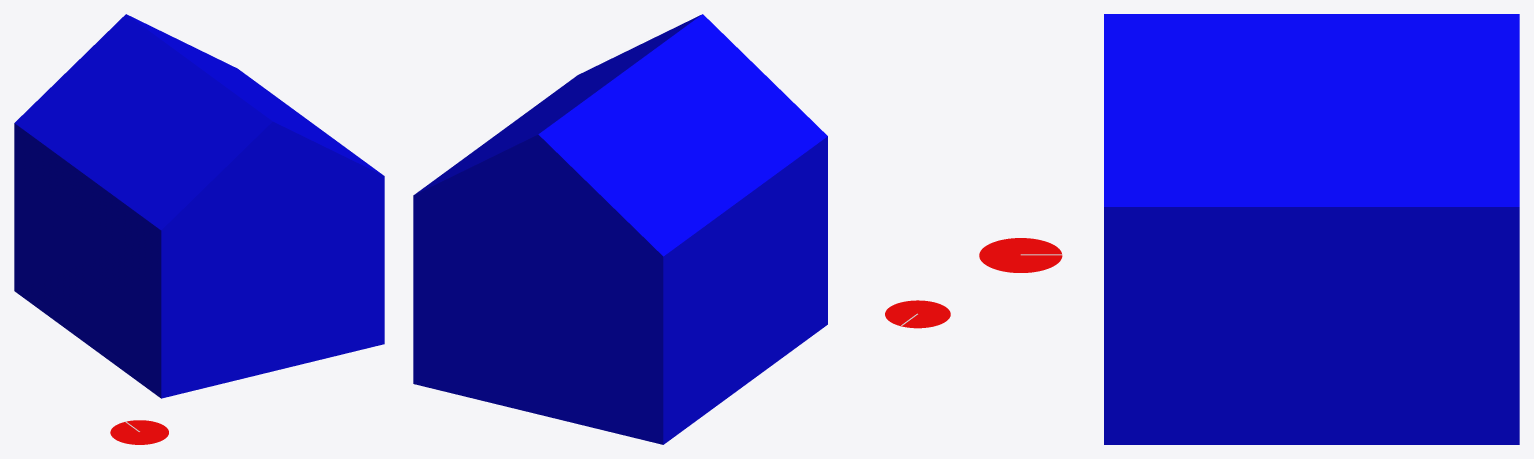
Rendered from result.glb.
3 renders of one model, left to right at view 1: azimuth 30°, elevation 25°; view 2: azimuth 150°, elevation 25°; view 3: azimuth 270°, elevation 25°, orthographic. The views are drawn at different scales.
Visible parts, largest first — view 1: 9ca3e6b5-a27e-48d8-bbd6-190735917fd7__undefined, cda4c04a-e920-4196-8468-53d46eb062df__Circle; view 2: 9ca3e6b5-a27e-48d8-bbd6-190735917fd7__undefined, cda4c04a-e920-4196-8468-53d46eb062df__Circle; view 3: 9ca3e6b5-a27e-48d8-bbd6-190735917fd7__undefined, cda4c04a-e920-4196-8468-53d46eb062df__Circle.
Part boxes in pixels (box(x1,y1,x2,y2)): 9ca3e6b5-a27e-48d8-bbd6-190735917fd7__undefined: box(14, 14, 384, 398); cda4c04a-e920-4196-8468-53d46eb062df__Circle: box(110, 420, 168, 444); 9ca3e6b5-a27e-48d8-bbd6-190735917fd7__undefined: box(413, 14, 827, 444); cda4c04a-e920-4196-8468-53d46eb062df__Circle: box(885, 300, 950, 328); 9ca3e6b5-a27e-48d8-bbd6-190735917fd7__undefined: box(1104, 14, 1519, 444); cda4c04a-e920-4196-8468-53d46eb062df__Circle: box(979, 238, 1062, 272).
Bounding box in the file's own units: 589 × 469 × 650.
